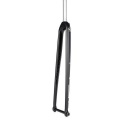fork: (46, 2, 79, 119)
